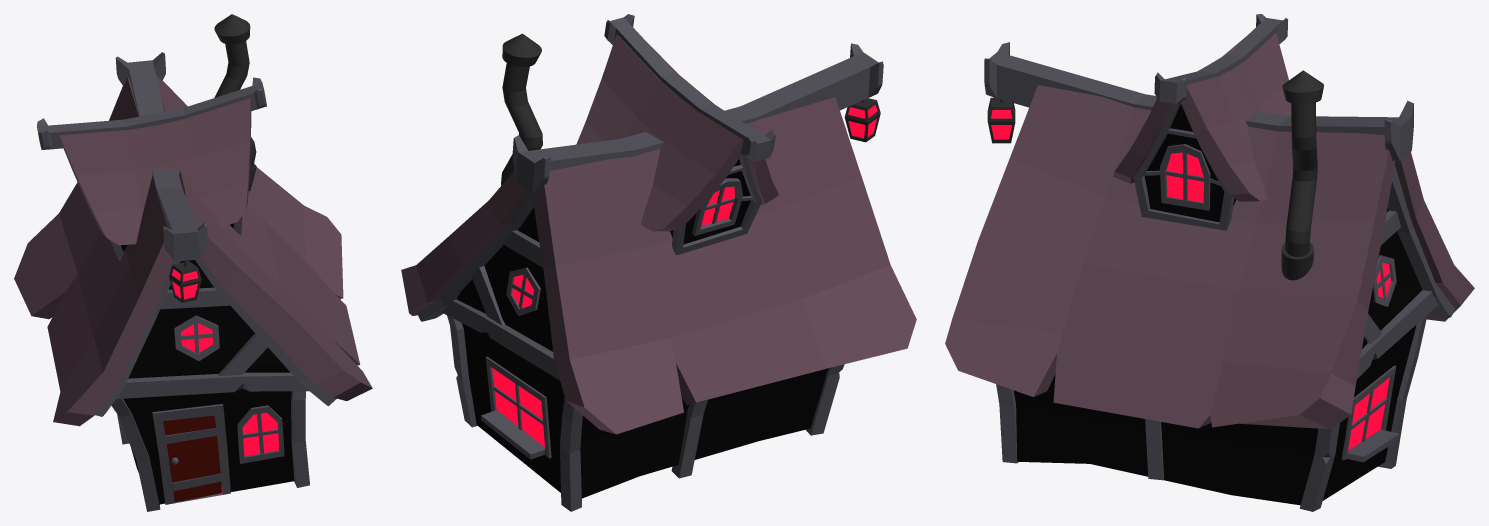
Rendered from Possessed House - Low Poly.fbx.
3 renders of one model, left to right at view 1: azimuth 30°, elevation 25°; view 2: azimuth 150°, elevation 25°; view 3: azimuth 270°, elevation 25°, orthographic. The views are drawn at different scales.
Visible parts, largest first — view 1: Cube.001, Cube.004, Cube, Cube.002, Cube.033, Cube.006, Cube.005, Cube.022, Cylinder.003, Cube.010, Cube.012, Cube.011 (+6 smaller); view 2: Cube.001, Cube, Cube.004, Cube.002, Cube.005, Cylinder.003, Cube.006, Cube.021, Cube.014, Cube.010, Cube.003, Cube.013 (+9 smaller); view 3: Cube.001, Cube, Cube.004, Cube.002, Cylinder.003, Cube.003, Cube.005, Cube.009, Cube.006, Cube.021, Cube.013, Cube.014 (+8 smaller).
Part boxes in pixels (<box>): Cube.001: <box>14,75,372,426</box>; Cube.004: <box>59,98,251,245</box>; Cube: <box>123,260,294,504</box>; Cube.002: <box>115,52,207,261</box>; Cube.033: <box>163,415,221,502</box>; Cube.006: <box>116,372,309,398</box>; Cube.005: <box>37,77,266,149</box>; Cube.022: <box>152,404,230,504</box>; Cylinder.003: <box>214,14,256,191</box>; Cube.010: <box>195,258,336,405</box>; Cube.012: <box>111,398,160,511</box>; Cube.011: <box>291,391,309,487</box>; Cube.001: <box>401,97,916,434</box>; Cube: <box>457,207,828,498</box>; Cube.004: <box>576,34,778,231</box>; Cube.002: <box>512,43,883,193</box>; Cube.005: <box>604,14,775,161</box>; Cylinder.003: <box>501,33,542,185</box>; Cube.006: <box>441,299,560,380</box>; Cube.021: <box>481,356,551,459</box>; Cube.014: <box>560,397,582,511</box>; Cube.010: <box>417,191,533,321</box>; Cube.003: <box>670,158,750,244</box>; Cube.013: <box>447,315,477,427</box>; Cube.001: <box>945,85,1474,429</box>; Cube: <box>1013,207,1422,505</box>; Cube.004: <box>1113,33,1291,201</box>; Cube.002: <box>984,42,1413,160</box>; Cylinder.003: <box>1281,70,1323,280</box>; Cube.003: <box>1144,104,1236,222</box>; Cube.005: <box>1154,14,1288,103</box>; Cube.009: <box>1387,165,1455,317</box>; Cube.006: <box>1357,290,1437,378</box>; Cube.021: <box>1341,365,1399,462</box>; Cube.013: <box>1299,423,1339,511</box>; Cube.014: <box>1378,315,1427,468</box>.
Size of the model in its own units: 488 by 486 by 522.
